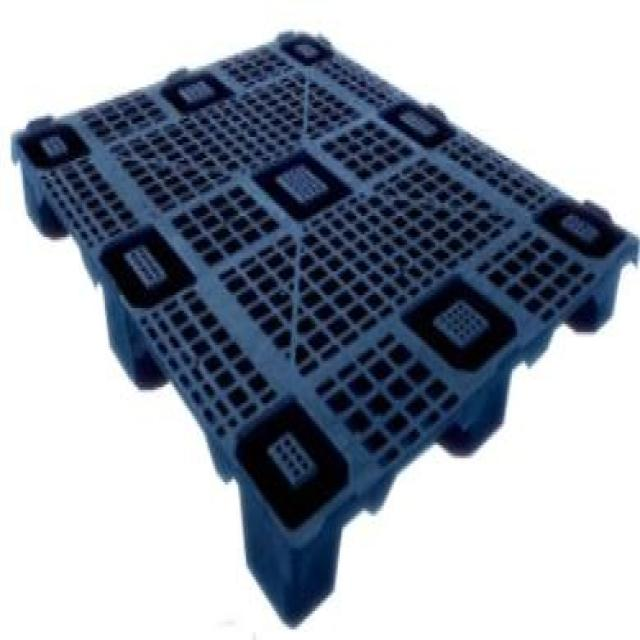non-igps: (7, 23, 640, 634)
